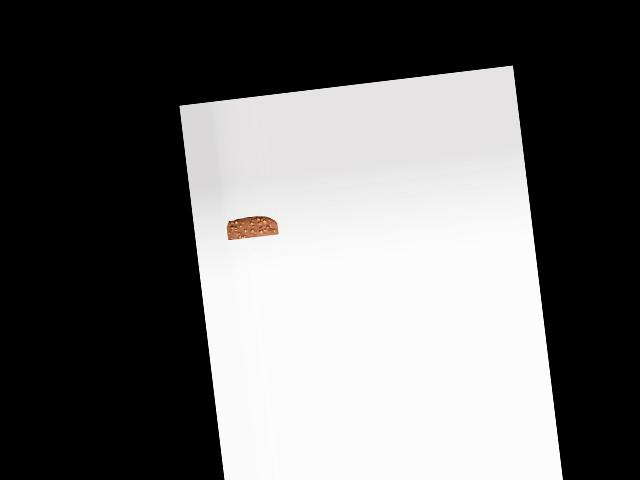chocolate: (225, 210, 278, 242)
